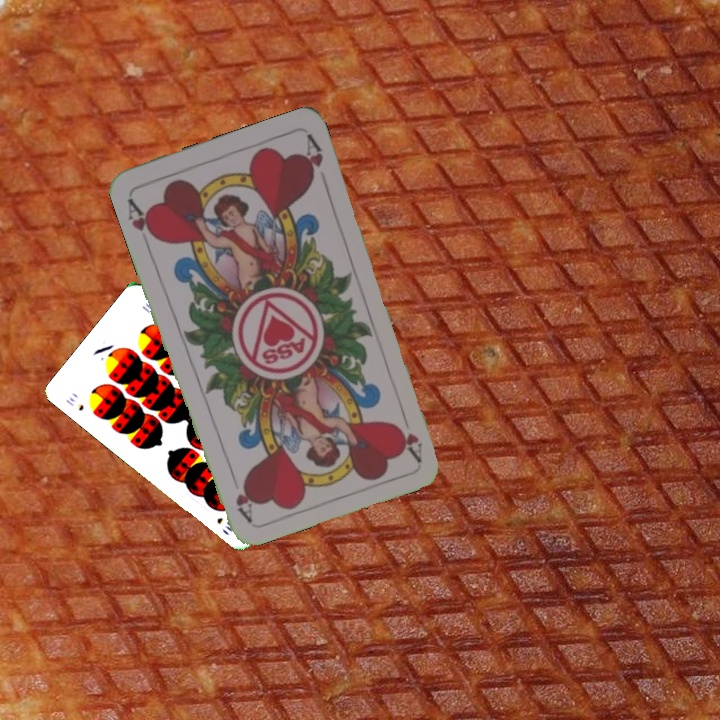HA: (123, 192, 161, 249), (392, 405, 425, 463)
S10: (62, 393, 86, 413)
